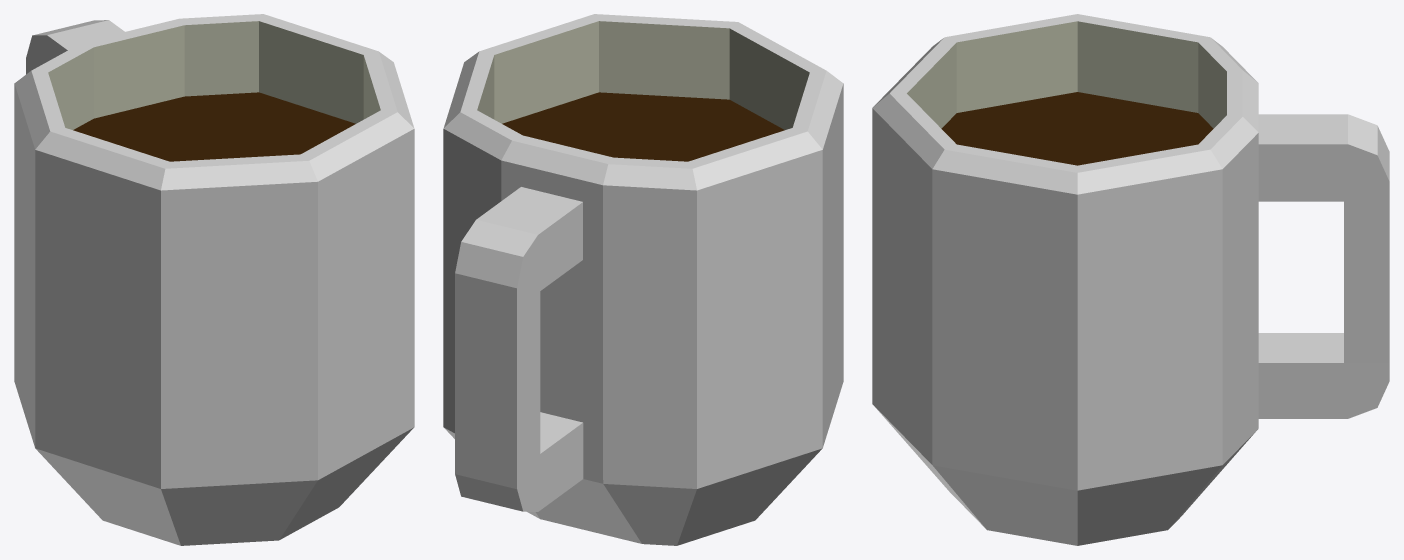
The model's file is CoffeeMug.glb.
The picture shows the model from 3 angles, left to right: view 1: azimuth 30°, elevation 25°; view 2: azimuth 150°, elevation 25°; view 3: azimuth 270°, elevation 25°; orthographic projection.
Parts seen in each view (by area): view 1: CupFilled; view 2: CupFilled; view 3: CupFilled.
Boxes of the visible parts, <box> form: CupFilled: <box>14,14,414,545</box>; CupFilled: <box>443,14,843,545</box>; CupFilled: <box>872,14,1389,545</box>.
Bounding box in the file's own units: 0.08 × 0.0857 × 0.1008.
